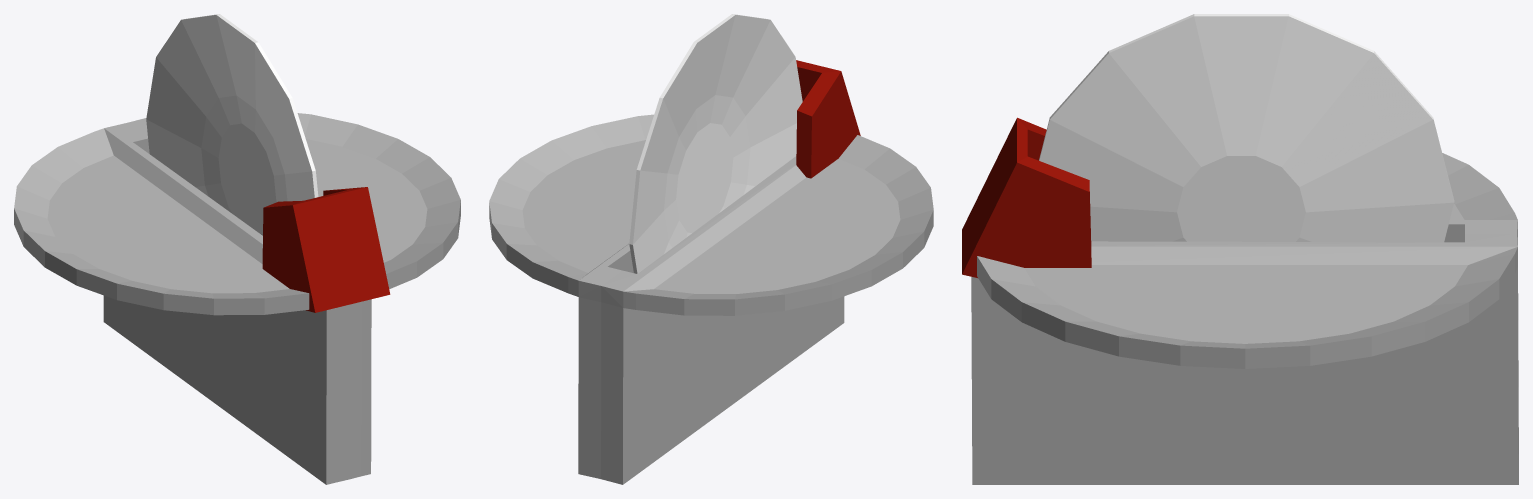
Rendered from PlateDispenser_V1.fbx.
3 renders of one model, left to right at view 1: azimuth 30°, elevation 25°; view 2: azimuth 150°, elevation 25°; view 3: azimuth 270°, elevation 25°, orthographic. The views are drawn at different scales.
Parts seen in each view (by area): view 1: PlateDispenser, RustyPlate_Ref, PlateBracket; view 2: PlateDispenser, RustyPlate_Ref, PlateBracket; view 3: PlateDispenser, RustyPlate_Ref, PlateBracket.
Boxes of the visible parts, left/top/right/bottom form: PlateDispenser: left=14, top=113, right=460, bottom=484; RustyPlate_Ref: left=146, top=14, right=318, bottom=235; PlateBracket: left=262, top=187, right=390, bottom=312; PlateDispenser: left=489, top=114, right=933, bottom=484; RustyPlate_Ref: left=629, top=14, right=802, bottom=273; PlateBracket: left=796, top=60, right=860, bottom=178; PlateDispenser: left=971, top=153, right=1518, bottom=484; RustyPlate_Ref: left=1039, top=14, right=1454, bottom=242; PlateBracket: left=962, top=117, right=1091, bottom=277.
Bounding box in the file's own units: 1.03 × 0.9458 × 1.05.
